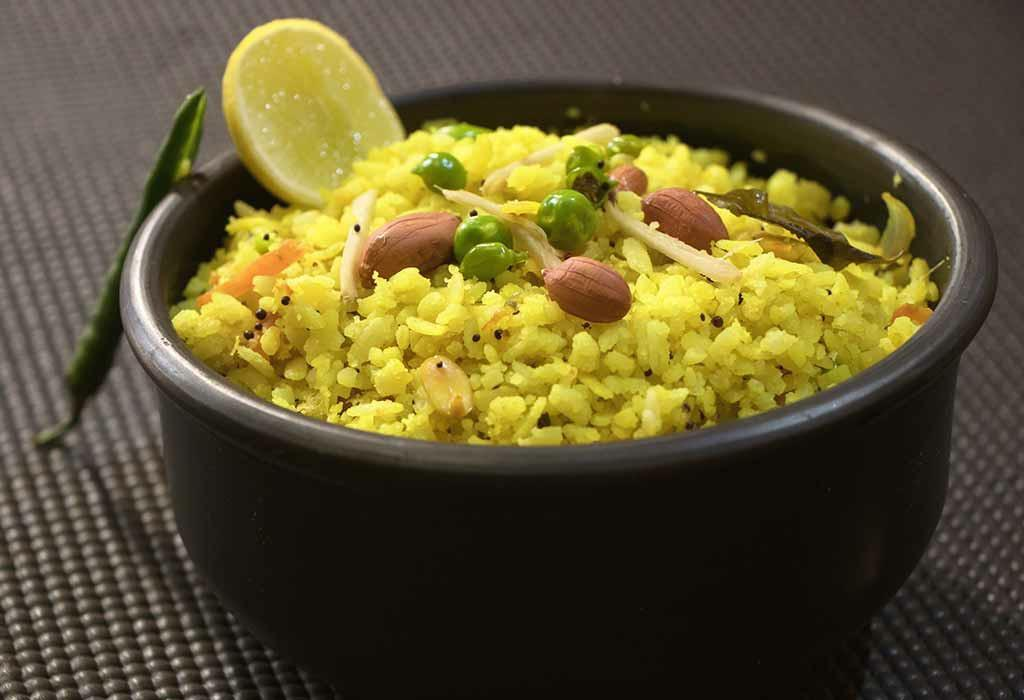Poha: (182, 108, 932, 463)
